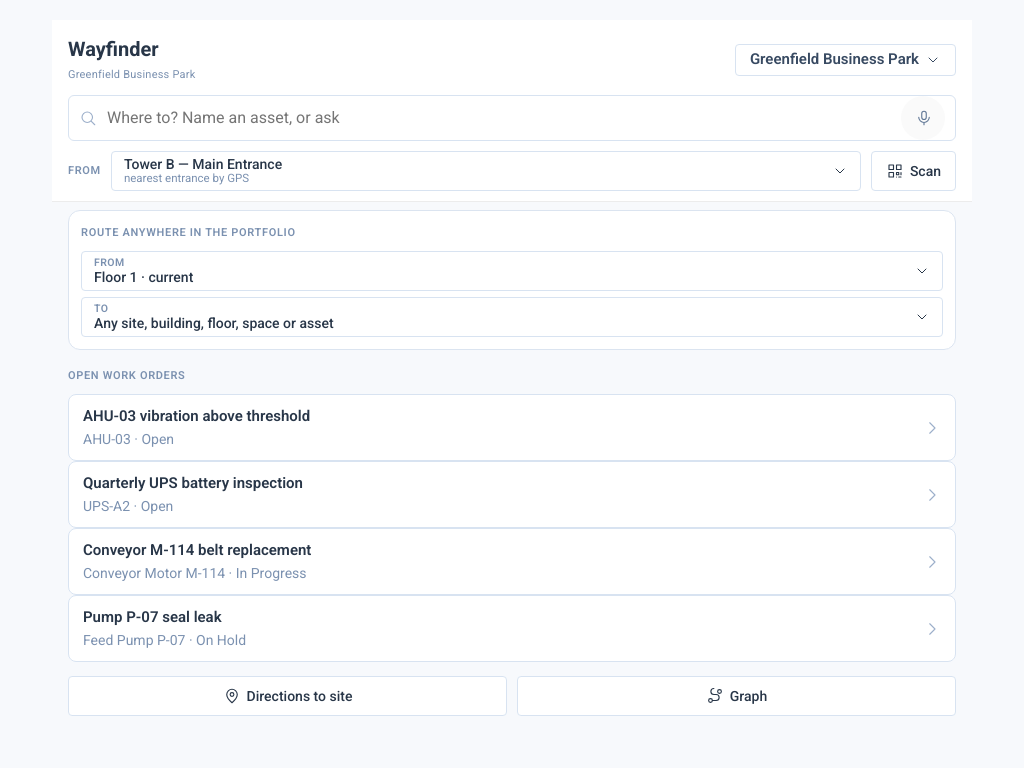
Test: facing indicator › shows which way to turn once the compass is north-referenced
Expected: the button "Quarterly UPS battery inspection UPS-A2 · Open" is shown, [68, 461, 956, 528]
Type "Primary Pump" into the field named "Destination" at (499, 118), box [105, 107, 893, 129]
Then press Enter
(page scrolled)
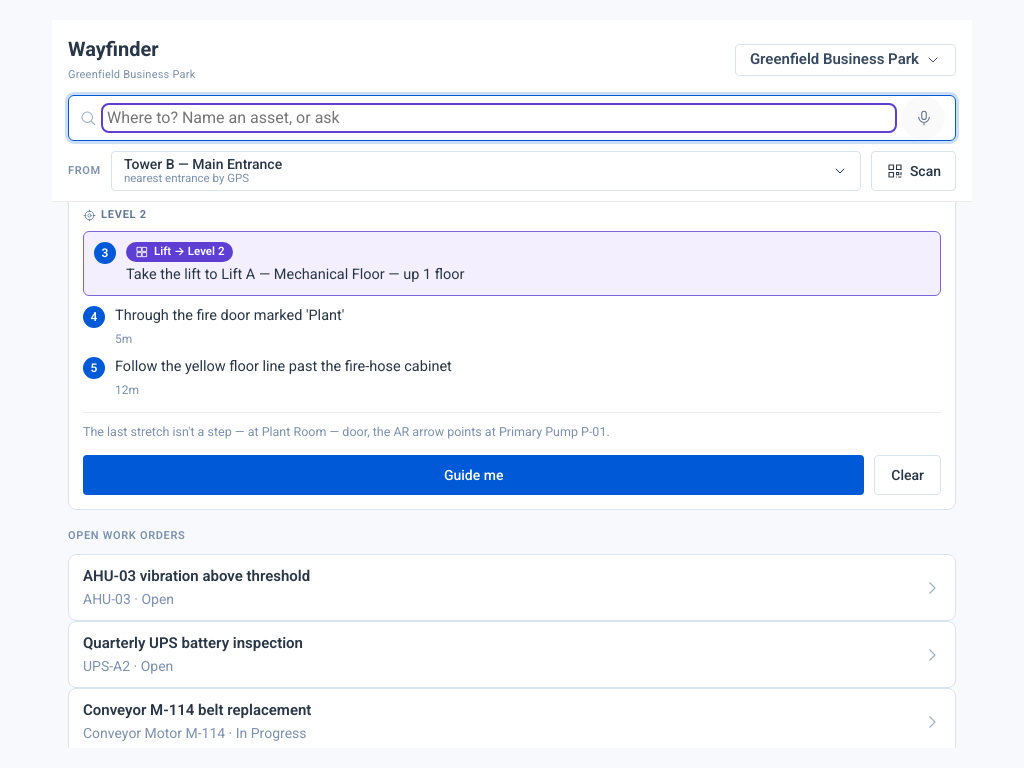
Click the button "Guide me" at (474, 475), box [83, 455, 864, 495]
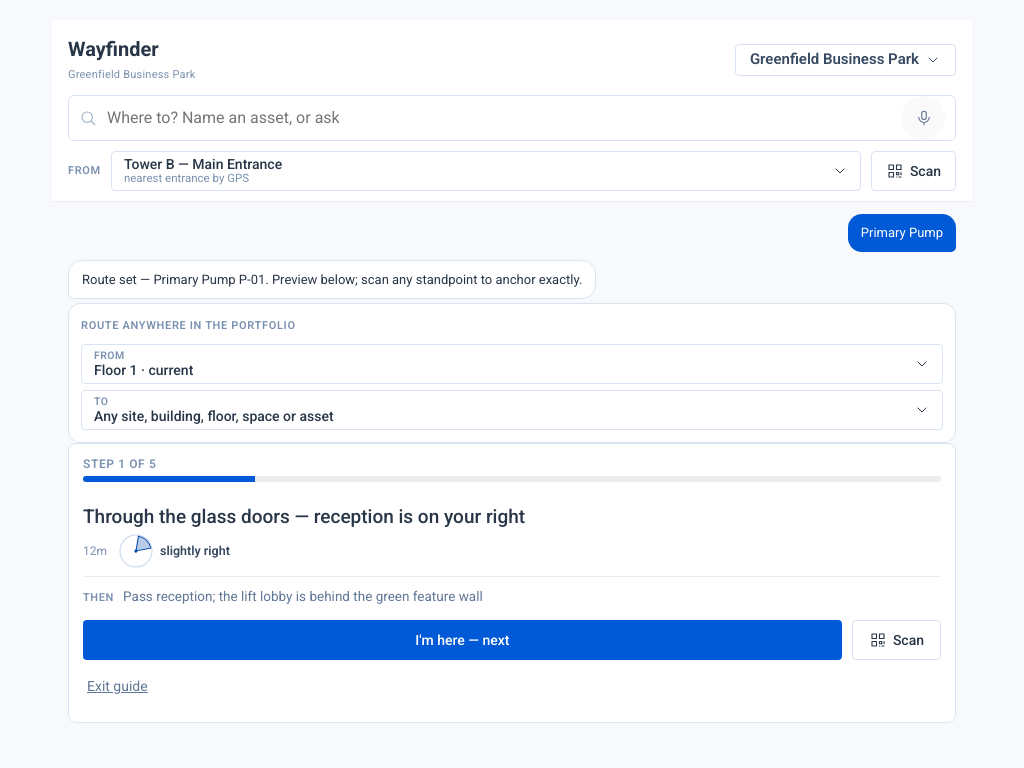
Expected: the text "Step 1 of 5" is shown, [83, 457, 156, 471]
Expected: the picture named "Destination slightly right" is shown, [119, 534, 153, 568]
